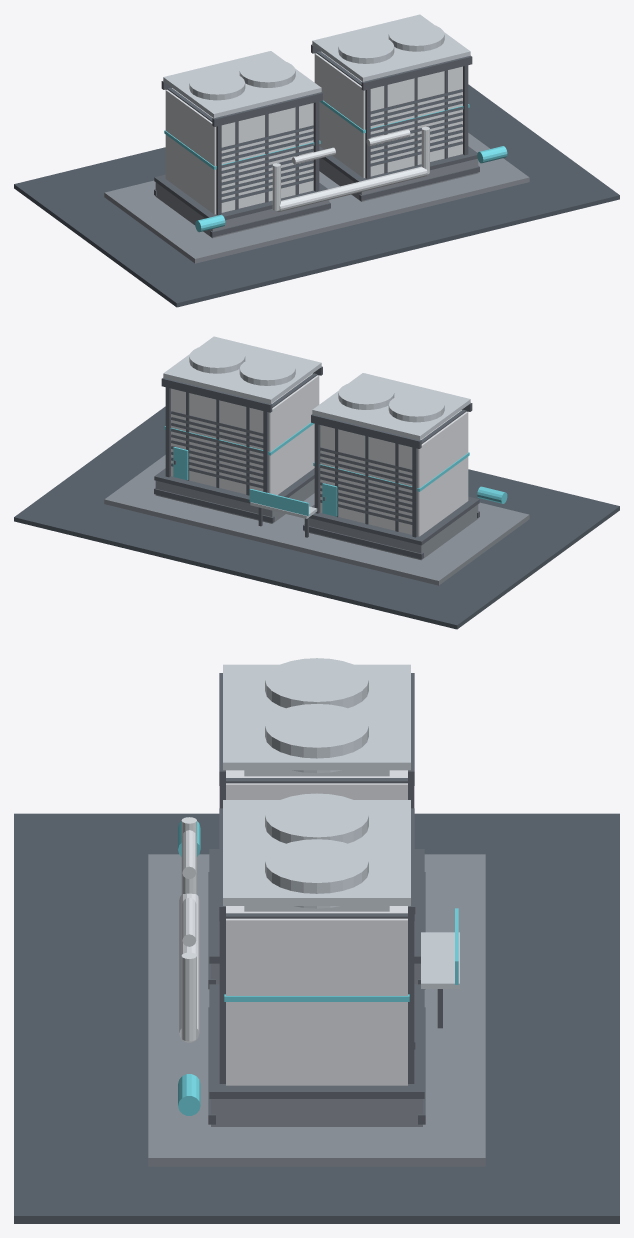
3 renders of one model, top to bottom at view 1: azimuth 30°, elevation 25°; view 2: azimuth 150°, elevation 25°; view 3: azimuth 270°, elevation 25°, orthographic. The views are drawn at different scales.
Visible parts, largest first — view 1: Ground, Pad, TowerA_CoreBody, TowerB_CoreBody, TowerB_TopDeck, TowerA_TopDeck, CrossHeader, TowerA_Basin, TowerA_FanA_Stack, TowerB_FanA_Stack, TowerB_Basin, TowerB_FanB_Stack (+12 smaller); view 2: Ground, Pad, TowerA_CoreBody, TowerB_CoreBody, TowerB_TopDeck, TowerA_TopDeck, TowerA_Basin, TowerA_BasinBand, TowerB_Basin, TowerA_FanA_Stack, TowerB_FanA_Stack, TowerB_FanB_Stack (+13 smaller); view 3: Ground, Pad, TowerB_CoreBody, TowerA_TopDeck, TowerB_TopDeck, TowerB_Basin, TowerB_BasinBand, TowerA_FanB_Stack, TowerB_FanB_Stack, TowerA_FanA_Stack, TowerB_FanA_Stack, TowerA_CoreBody (+10 smaller).
Boxes of the visible parts, x1,y1,x2,y2 form: Ground: (14,84,619,307); Pad: (104,133,529,263); TowerA_CoreBody: (165,88,313,214); TowerB_CoreBody: (314,52,462,178); TowerB_TopDeck: (312,14,470,81); TowerA_TopDeck: (163,51,321,118); CrossHeader: (277,166,427,211); TowerA_Basin: (155,182,329,238); TowerA_FanA_Stack: (189,71,245,100); TowerB_FanA_Stack: (338,34,394,63); TowerB_Basin: (319,158,478,201); TowerB_FanB_Stack: (388,22,444,51); Ground: (14,406,619,629); Pad: (104,455,529,585); TowerA_CoreBody: (320,410,468,536); TowerB_CoreBody: (171,374,319,495); TowerB_TopDeck: (163,336,321,403); TowerA_TopDeck: (312,373,470,440); TowerA_Basin: (304,504,478,560); TowerA_BasinBand: (309,496,479,545); TowerB_Basin: (155,478,314,523); TowerA_FanA_Stack: (388,393,444,422); TowerB_FanA_Stack: (239,356,295,385); TowerB_FanB_Stack: (189,344,245,373); Ground: (14,813,619,1223); Pad: (148,854,485,1166); TowerB_CoreBody: (226,906,407,1085); TowerA_TopDeck: (223,664,410,770); TowerB_TopDeck: (223,800,410,905); TowerB_Basin: (211,1099,422,1126); TowerB_BasinBand: (209,984,424,1098); TowerA_FanB_Stack: (265,704,368,773); TowerB_FanB_Stack: (265,839,368,908); TowerA_FanA_Stack: (265,658,368,708); TowerB_FanA_Stack: (265,793,368,843); TowerA_CoreBody: (226,770,407,799).
Bounding box in the file's own units: 22 × 6.43 × 14.
